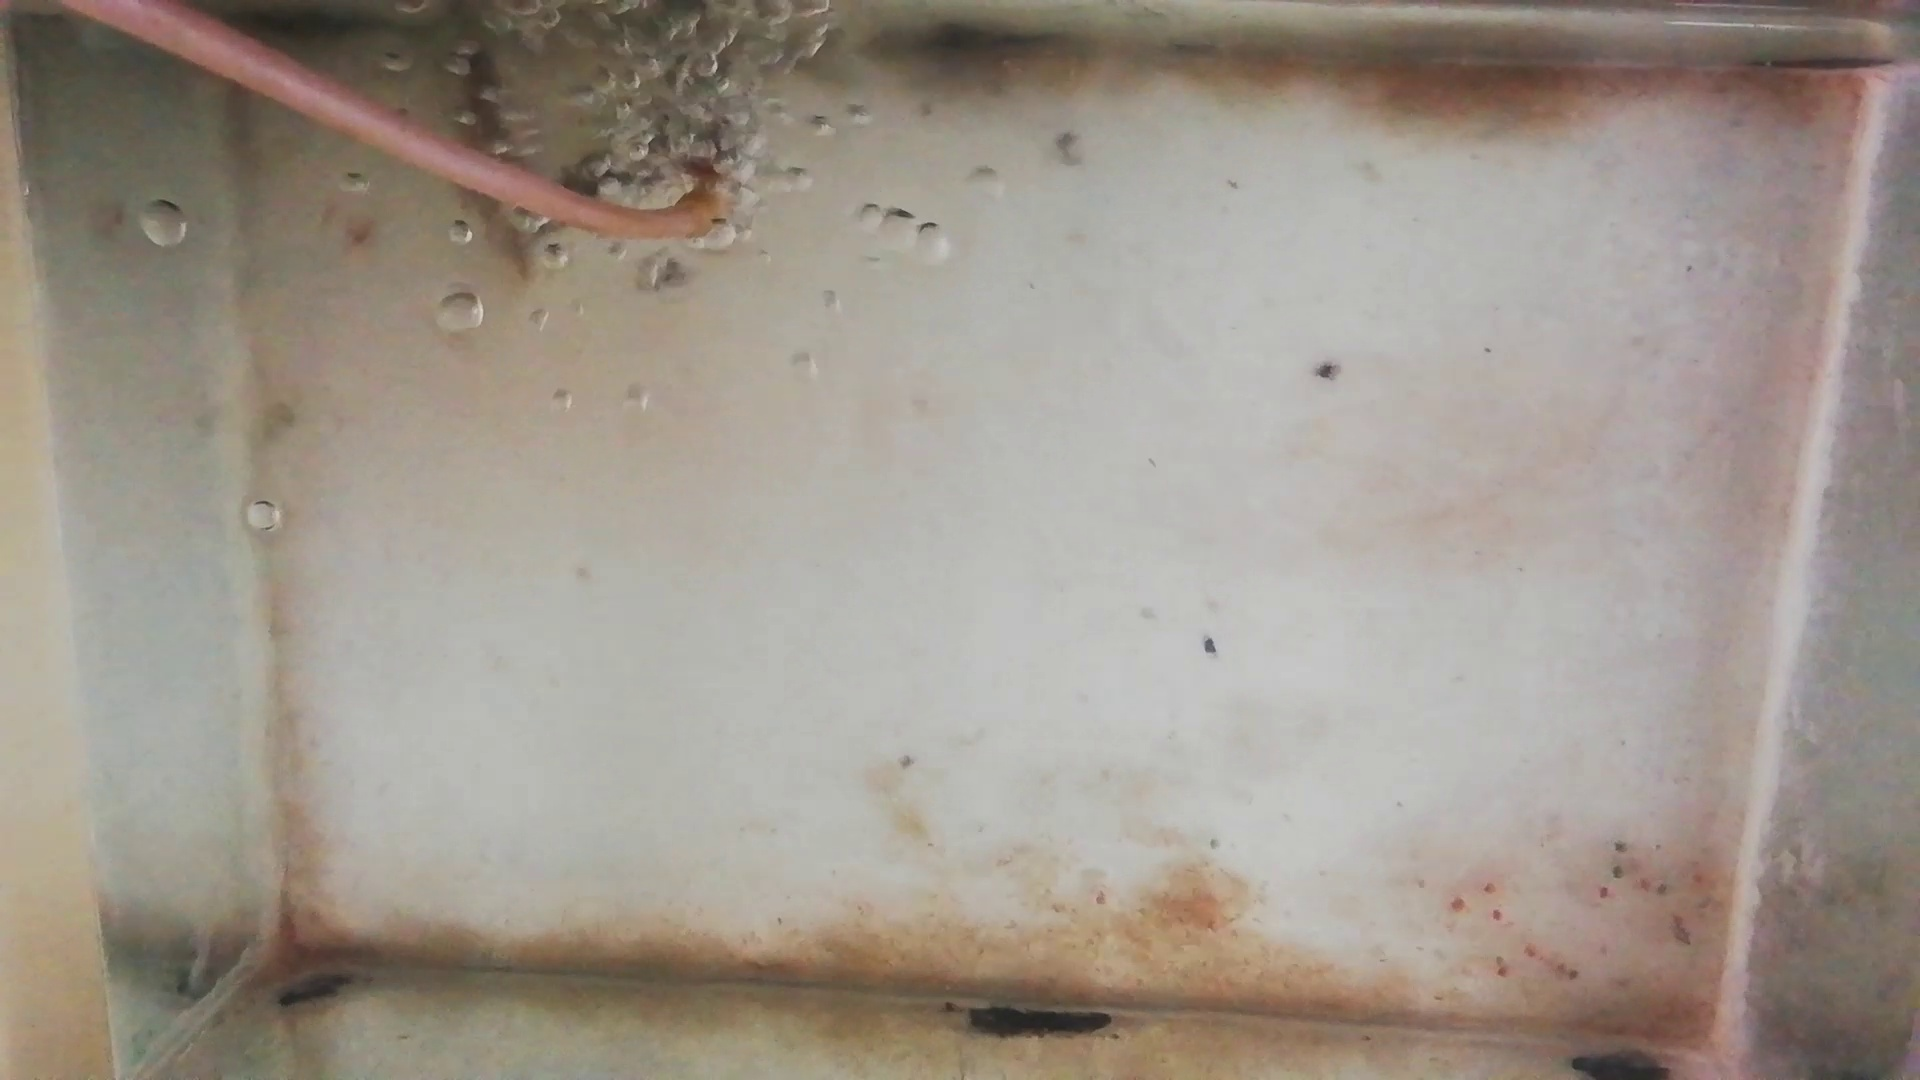fish: (444, 15, 537, 273), (555, 156, 666, 196)
